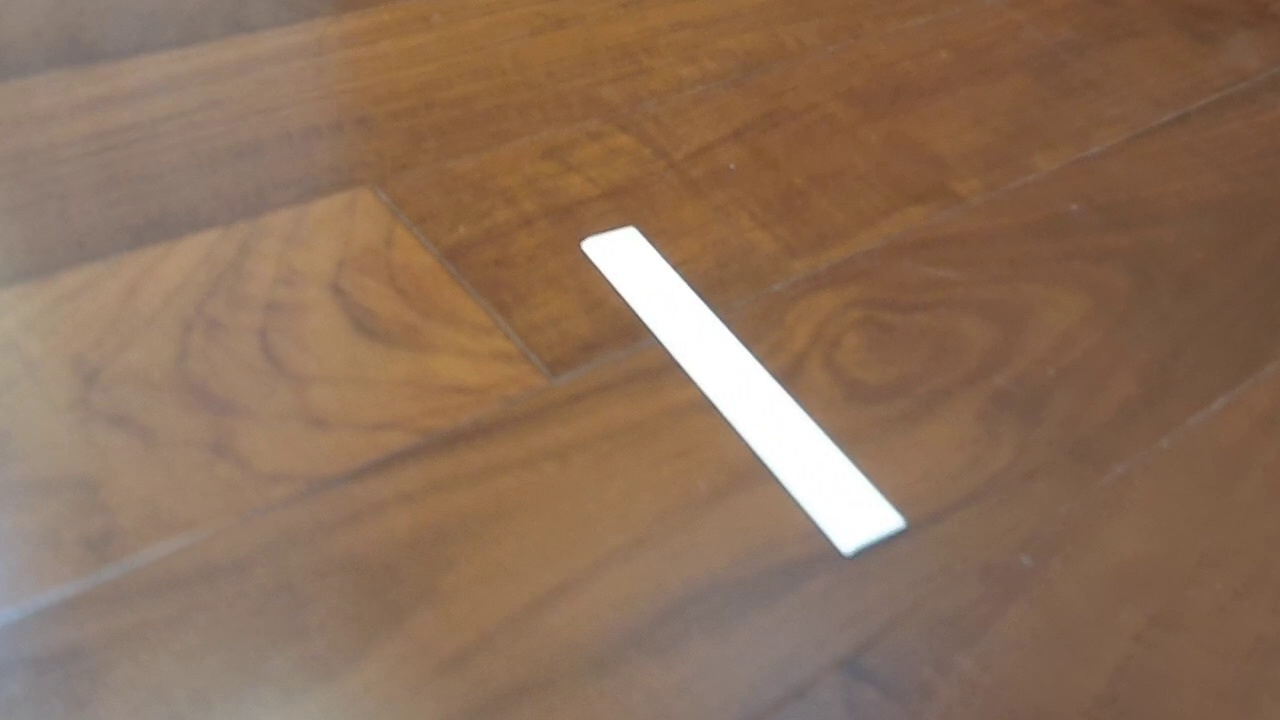ruler: (579, 225, 909, 560)
